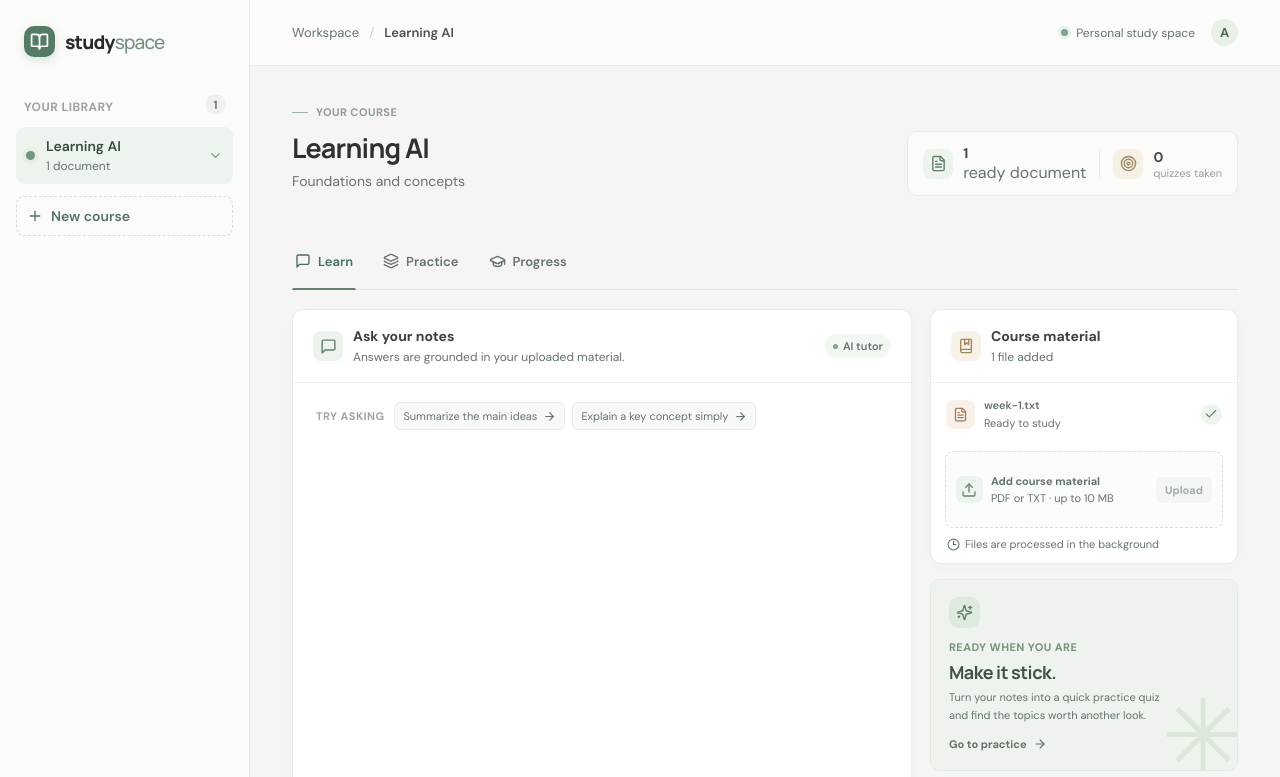
Study Companion journeys › generates a quiz, records answers, and displays the result
This screenshot has width=1280, height=777.
Click the button "Practice".
click(421, 267)  # box x1=380 y1=245 x2=462 y2=289
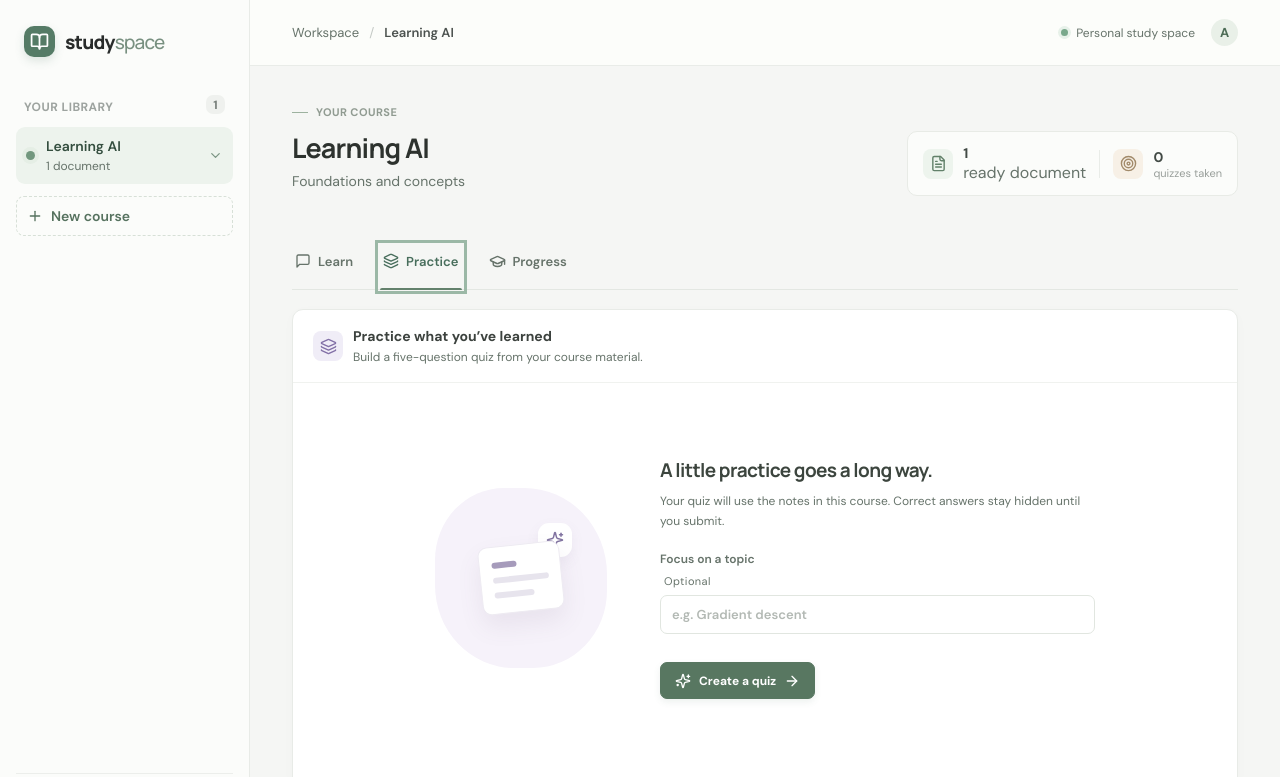
Type "Embeddings" into the field with placeholder "e.g. Gradient descent".
click(878, 615); type("Embeddings")  # box x1=660 y1=595 x2=1095 y2=634
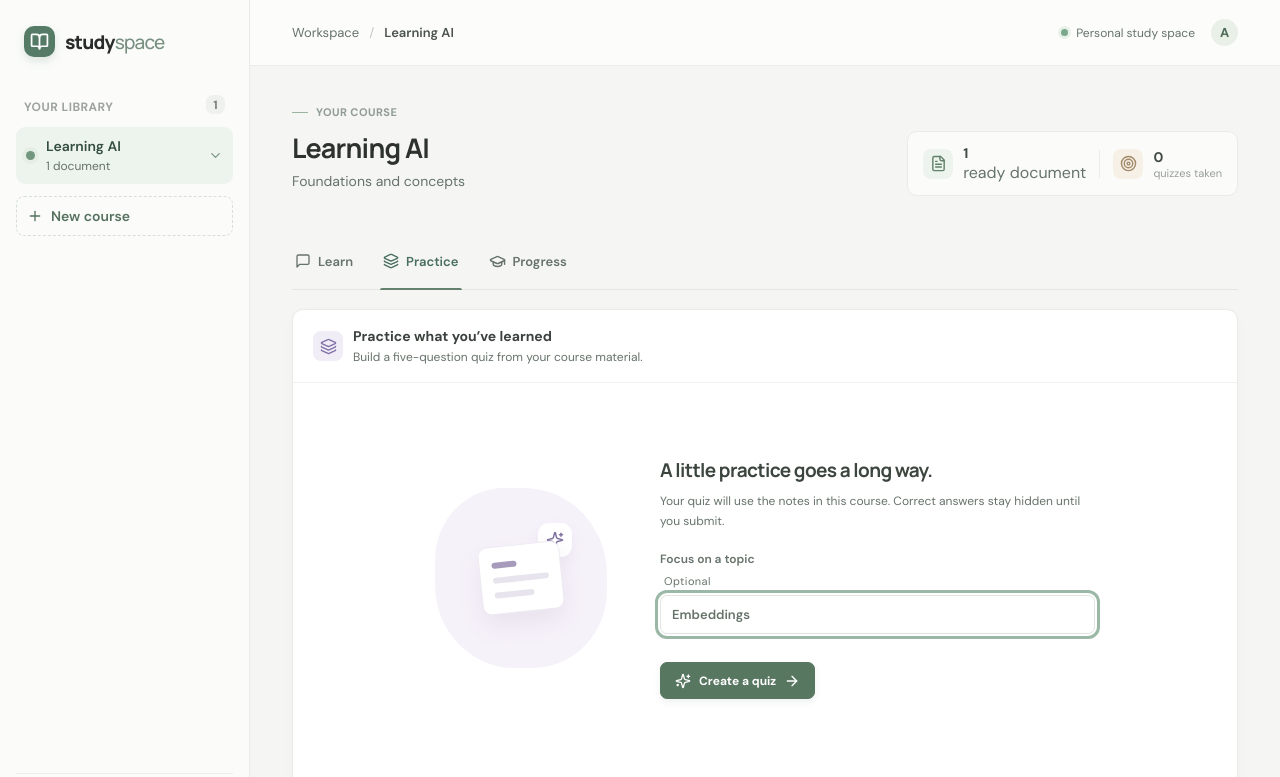
Click the button "Create a quiz".
click(738, 681)  # box x1=660 y1=662 x2=815 y2=699
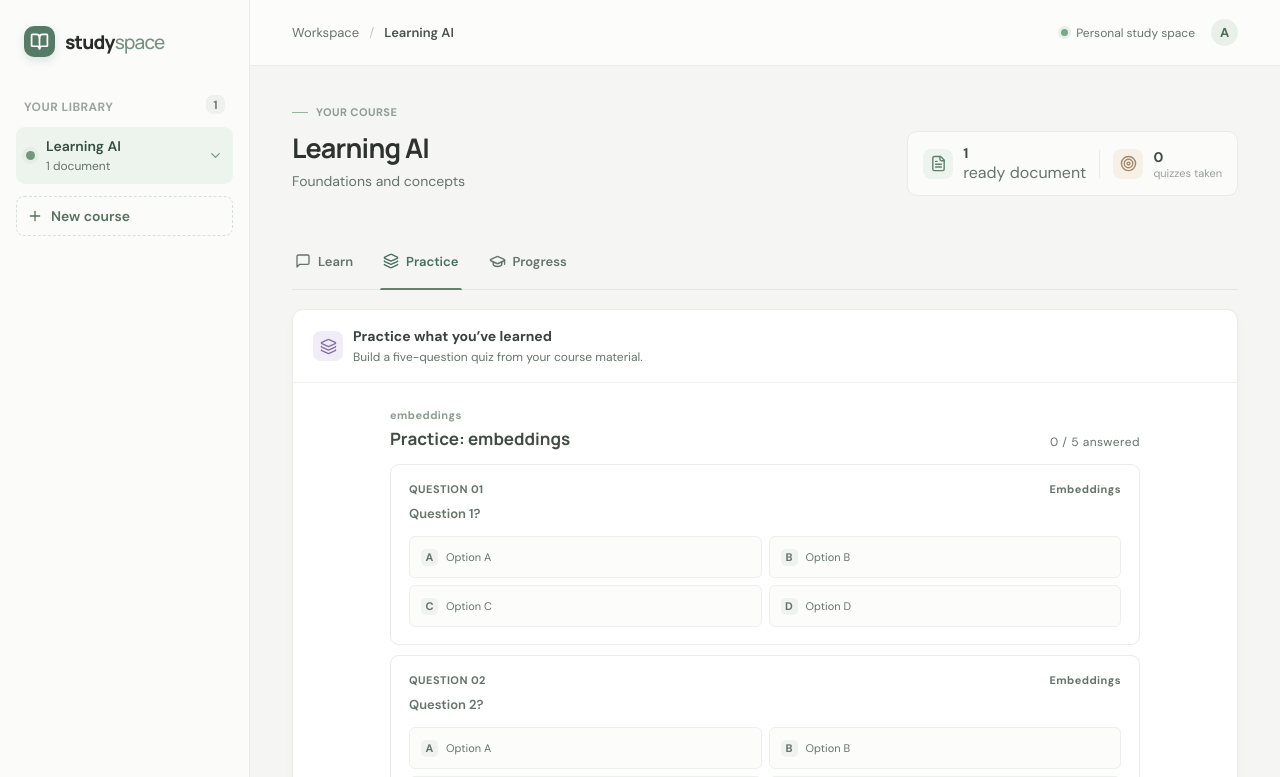
Expected: the heading "Question 1?" is shown, x1=409 y1=505 x2=480 y2=522
Click the button "A Option A" below "Question 1?".
click(469, 557)  # box x1=409 y1=536 x2=762 y2=578
(page scrolled)
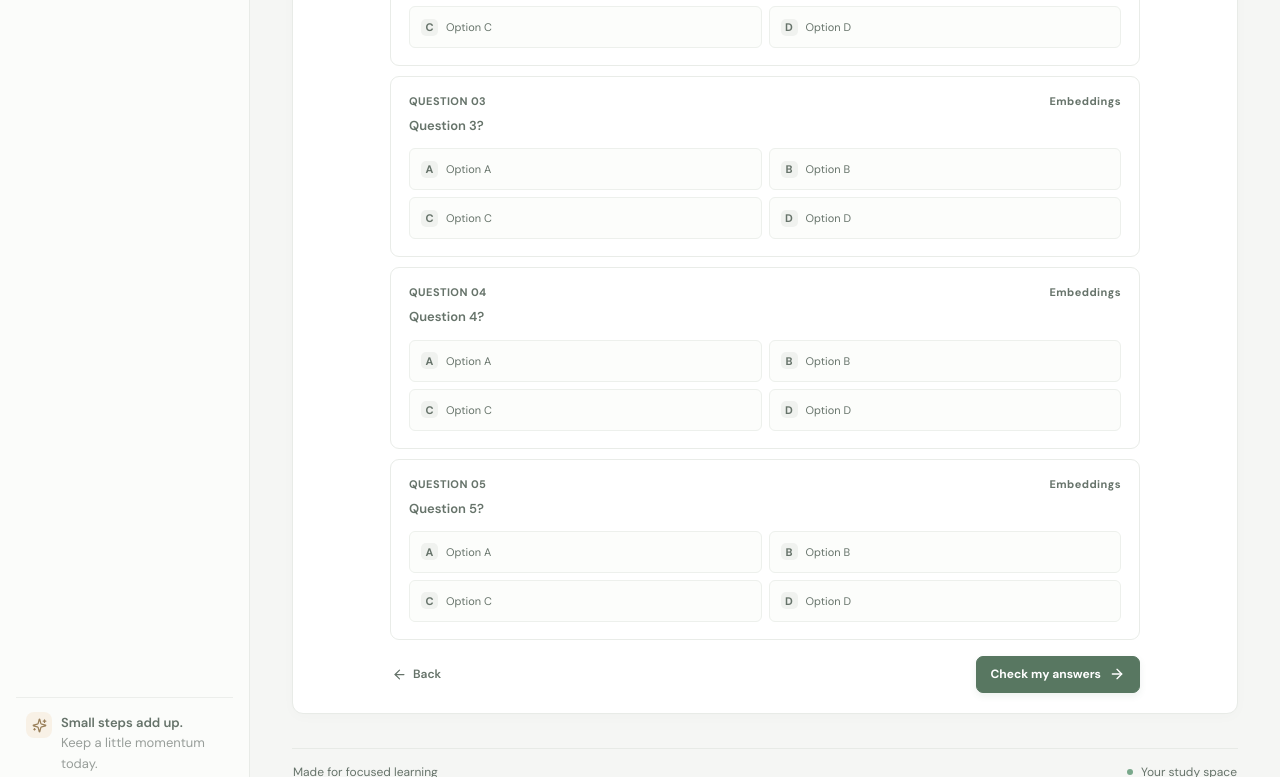
Click the button "Check my answers".
click(1058, 674)  # box x1=976 y1=656 x2=1140 y2=693
(page scrolled)
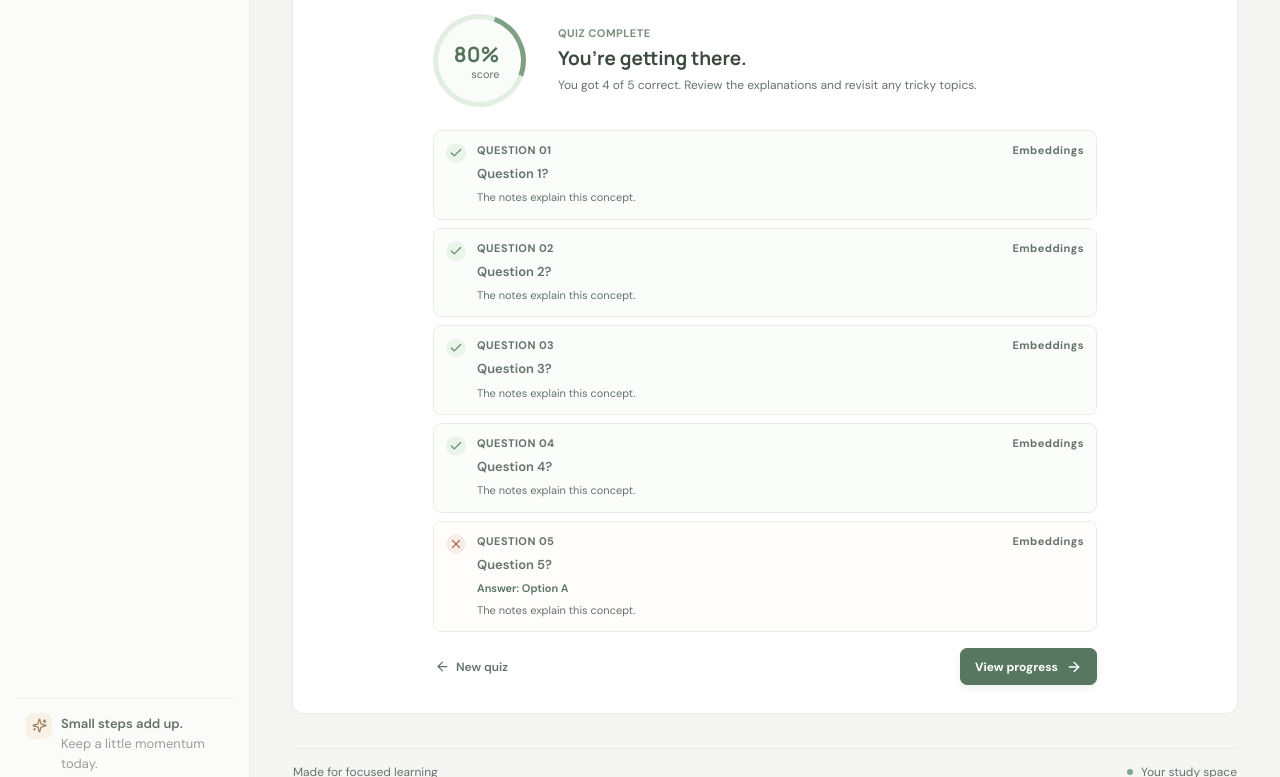
Expected: the text "You got 4 of 5 correct" is shown, x1=558 y1=77 x2=977 y2=93
Expected: the text "The notes explain this concept." is shown 5 times, x1=477 y1=190 x2=635 y2=204; x1=477 y1=288 x2=635 y2=302; x1=477 y1=386 x2=635 y2=400; x1=477 y1=483 x2=635 y2=497; x1=477 y1=603 x2=635 y2=617
